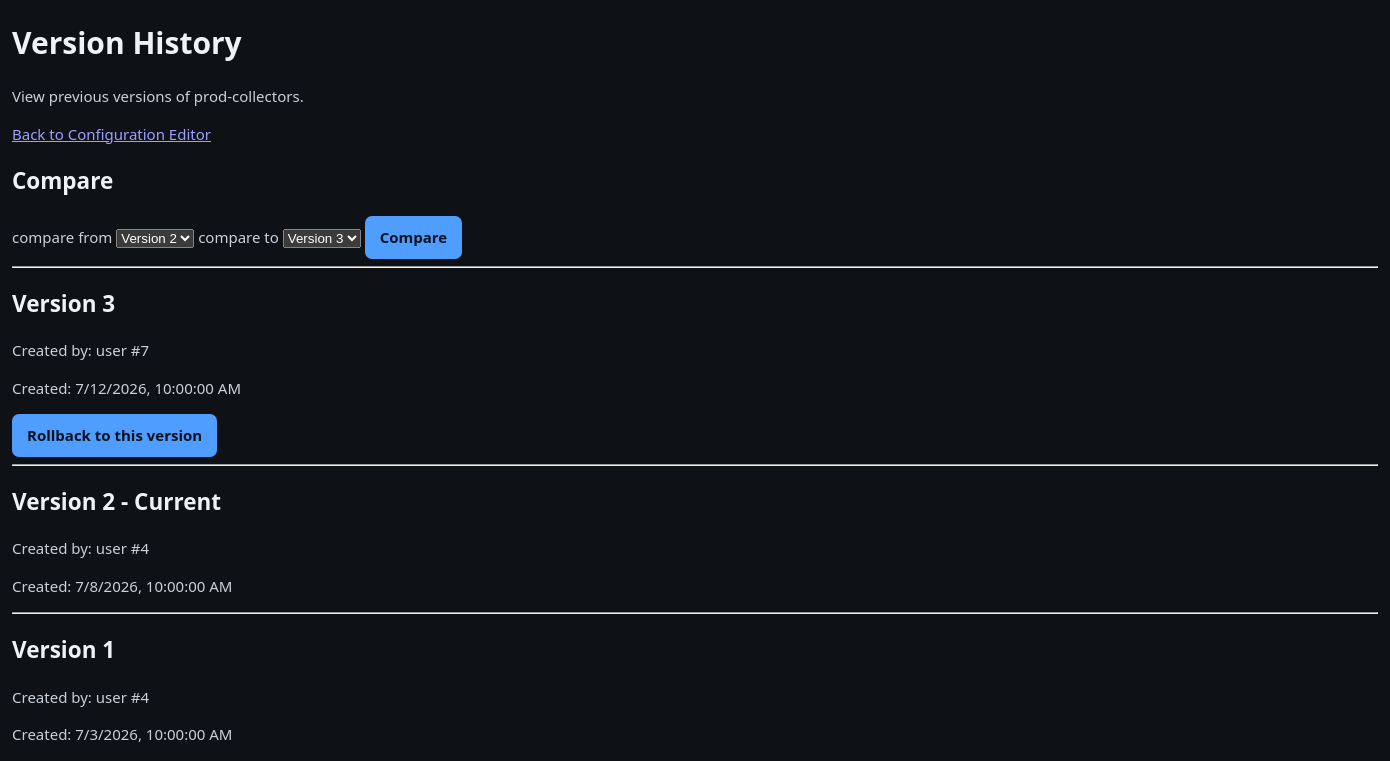
Test: VersionHistory › renders a diff with a "+ exporters:" line for the two default versions
Click the button "Compare" at (413, 238), box [365, 216, 462, 259]
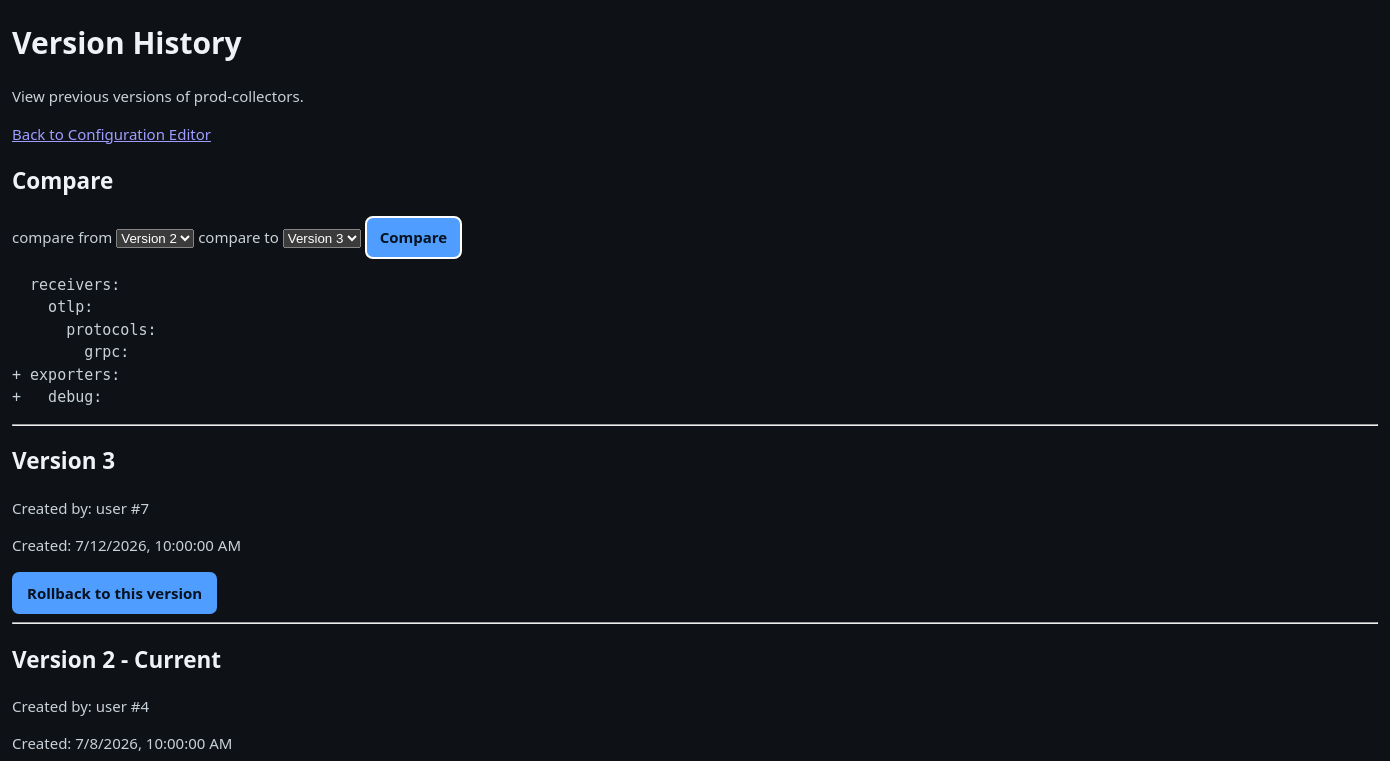
Check: the text "receivers: otlp: protocols: grpc: + exporters: + debug:" is shown, box [12, 276, 156, 406]
